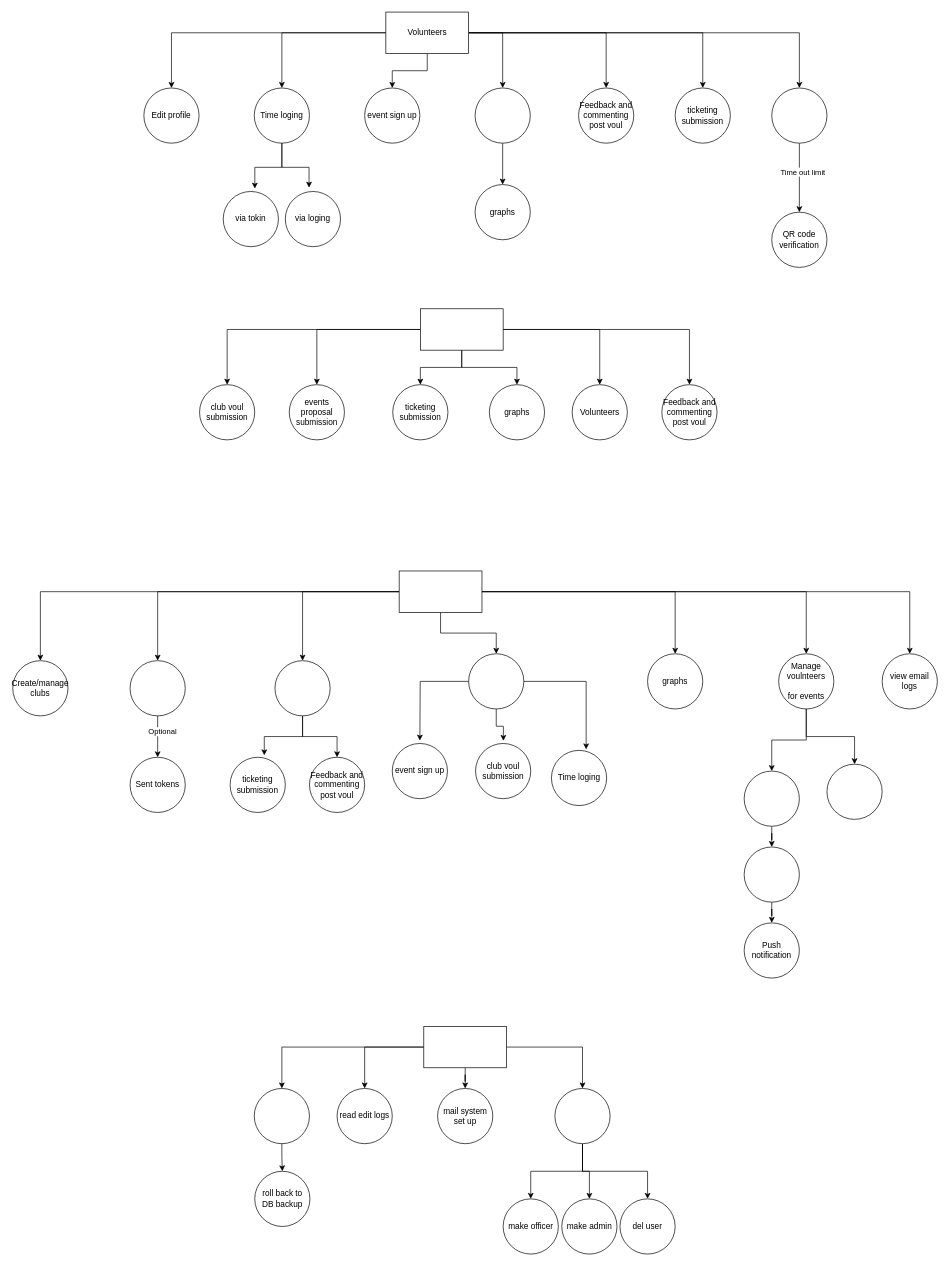
This 949x1266 diagram has some shape labels left out. Here are the shapes that lost their labels. From the top down, the centre of each, then its label:
At point (502, 115): "past events".
At point (799, 115): "Certificate generation".
At point (461, 329): "Club leader".
At point (440, 591): "SL Officer".
At point (157, 688): "Create events".
At point (302, 688): "Read".
At point (496, 681): "approval".
At point (771, 798): "Remove".
At point (854, 791): "Add".
At point (771, 874): "Reason".
At point (465, 1047): "Admin".
At point (281, 1116): "take DB backup".
At point (582, 1116): "user edit".
